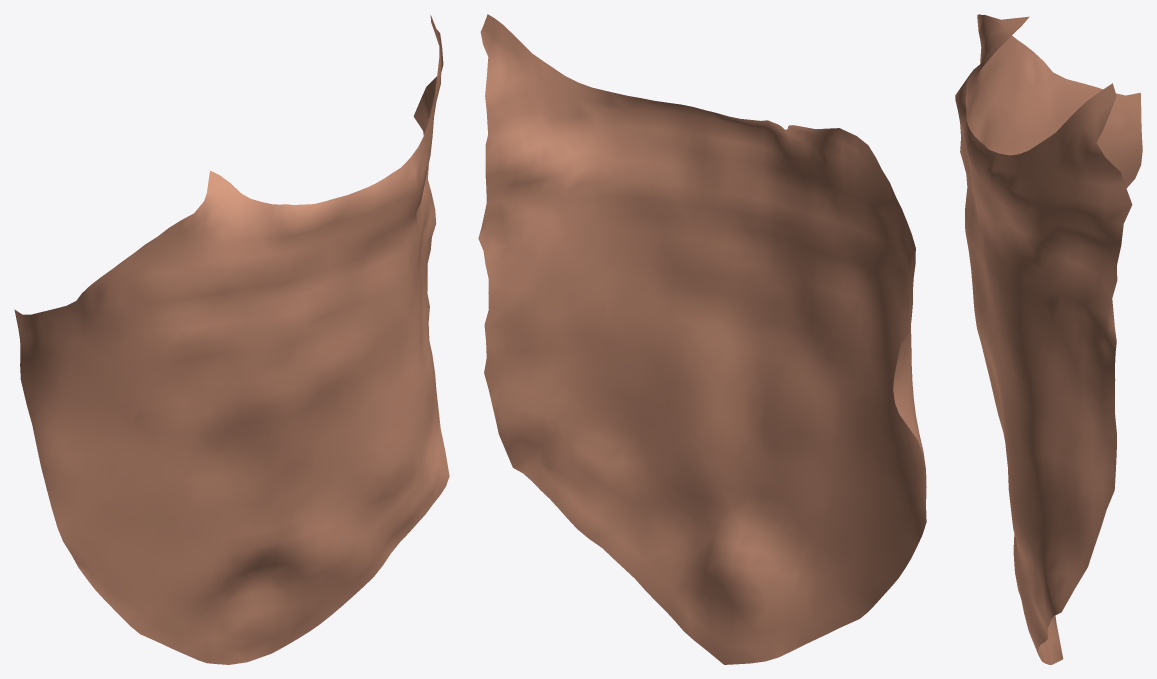
The model's file is greater-omentum.glb.
3 views of the same model, side by side, from view 1: azimuth 30°, elevation 25°; view 2: azimuth 150°, elevation 25°; view 3: azimuth 270°, elevation 25° (orthographic). The views are drawn at different scales.
Visible parts, largest first — view 1: Greater omentum; view 2: Greater omentum; view 3: Greater omentum.
Part boxes in pixels (left/top/right/bottom): Greater omentum: left=14, top=15, right=449, bottom=664; Greater omentum: left=478, top=14, right=926, bottom=664; Greater omentum: left=955, top=14, right=1142, bottom=664.
Size of the model in its own units: 0.2112 by 0.2854 by 0.0699.
